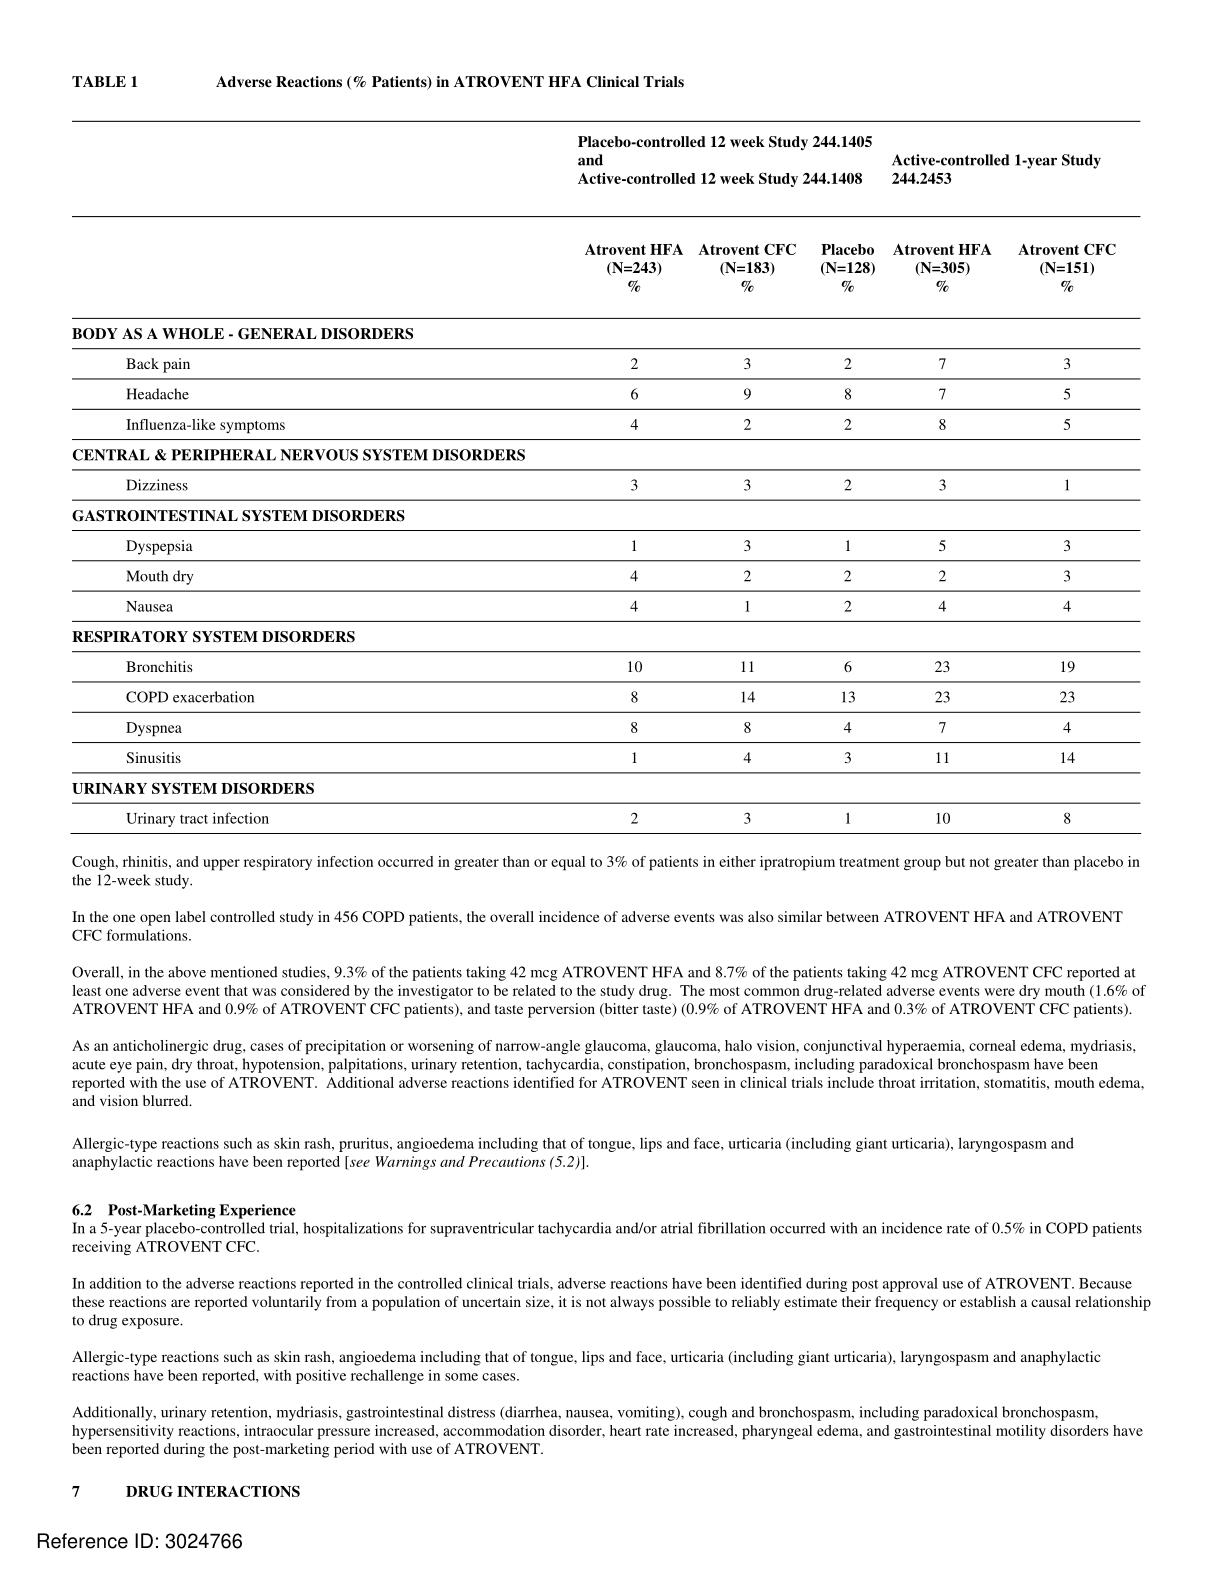partial_lined_merged_cells: (71, 120, 1142, 834)
